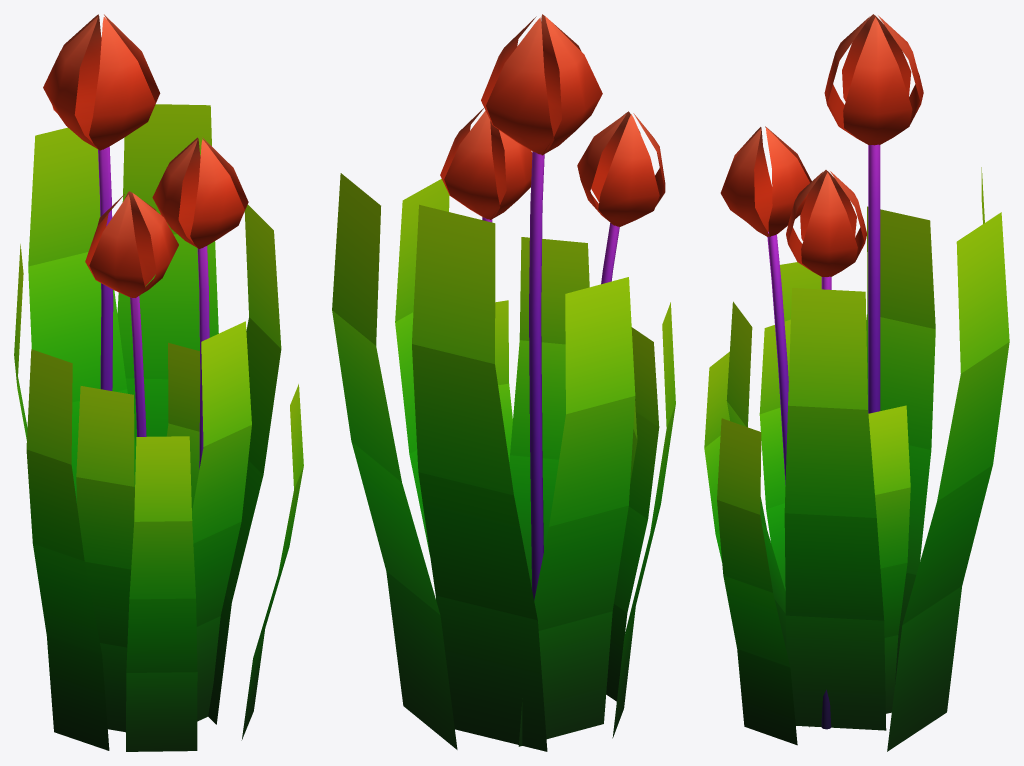
The model's file is flower (20).fbx.
3 views of the same model, side by side, from view 1: azimuth 30°, elevation 25°; view 2: azimuth 150°, elevation 25°; view 3: azimuth 270°, elevation 25° (orthographic). The views are drawn at different scales.
Parts seen in each view (by area): view 1: 20_f11; view 2: 20_f11; view 3: 20_f11.
Boxes of the visible parts, x1=… form: 20_f11: x1=14, y1=14, x2=303, y2=751; 20_f11: x1=332, y1=14, x2=675, y2=751; 20_f11: x1=704, y1=14, x2=1009, y2=751.
Bounding box in the file's own units: 56.97 × 148 × 60.43.
